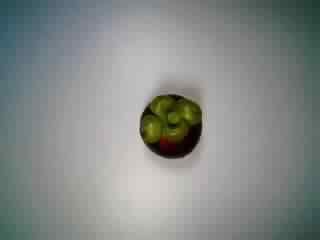mangosteen: (135, 91, 209, 164)
